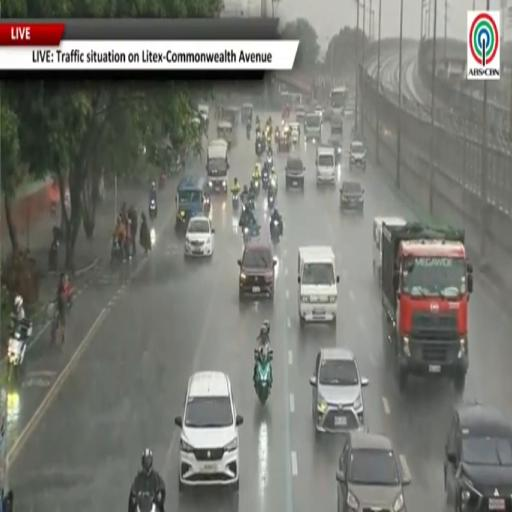bus: (330, 87, 348, 115)
car: (175, 372, 243, 491), (444, 404, 511, 511), (336, 432, 410, 511), (310, 347, 368, 433), (238, 237, 276, 300), (185, 216, 214, 257), (340, 181, 363, 213), (285, 155, 305, 190), (349, 140, 366, 170), (276, 124, 292, 152), (327, 137, 342, 165), (289, 122, 300, 145), (295, 105, 305, 122), (314, 105, 324, 121)
motorcycle: (7, 316, 32, 381), (254, 348, 272, 404), (47, 300, 64, 344), (110, 239, 124, 269), (137, 492, 158, 511), (48, 238, 59, 271), (243, 224, 260, 244), (270, 219, 281, 244), (242, 196, 255, 211), (149, 199, 157, 220), (255, 138, 264, 156), (203, 196, 211, 216), (262, 167, 269, 189), (252, 179, 260, 196), (268, 195, 275, 210), (150, 228, 155, 248), (233, 195, 239, 210), (266, 133, 272, 148), (247, 125, 251, 140), (275, 128, 279, 143)
truck: (382, 222, 473, 391), (331, 114, 343, 135)
